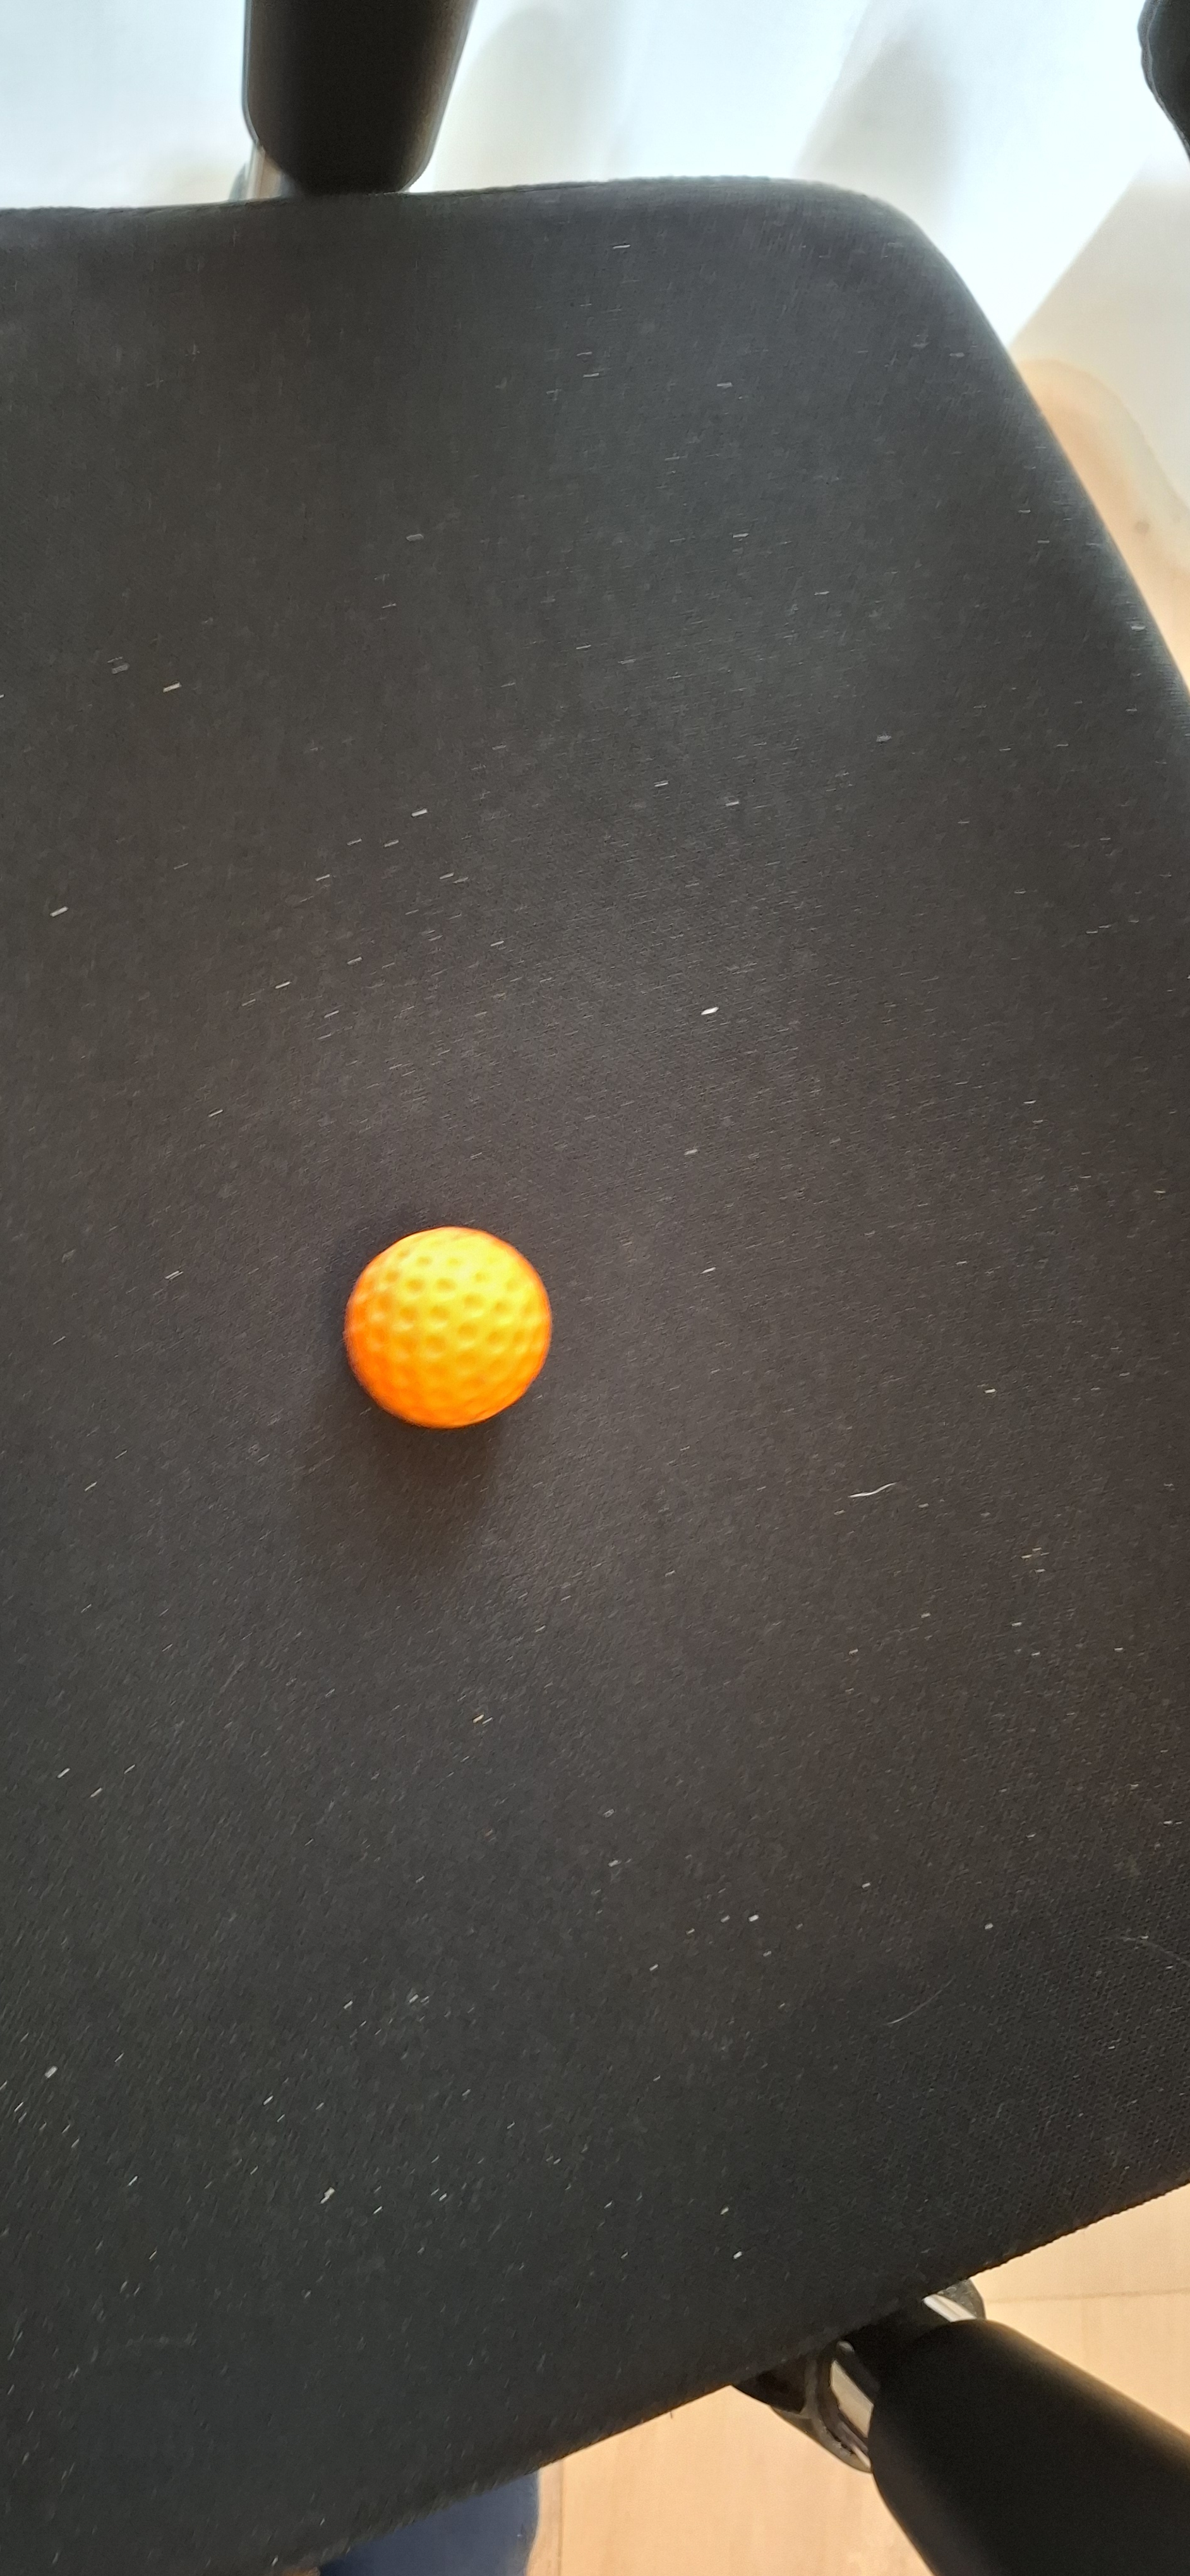ball: (565, 1385, 661, 1825)
